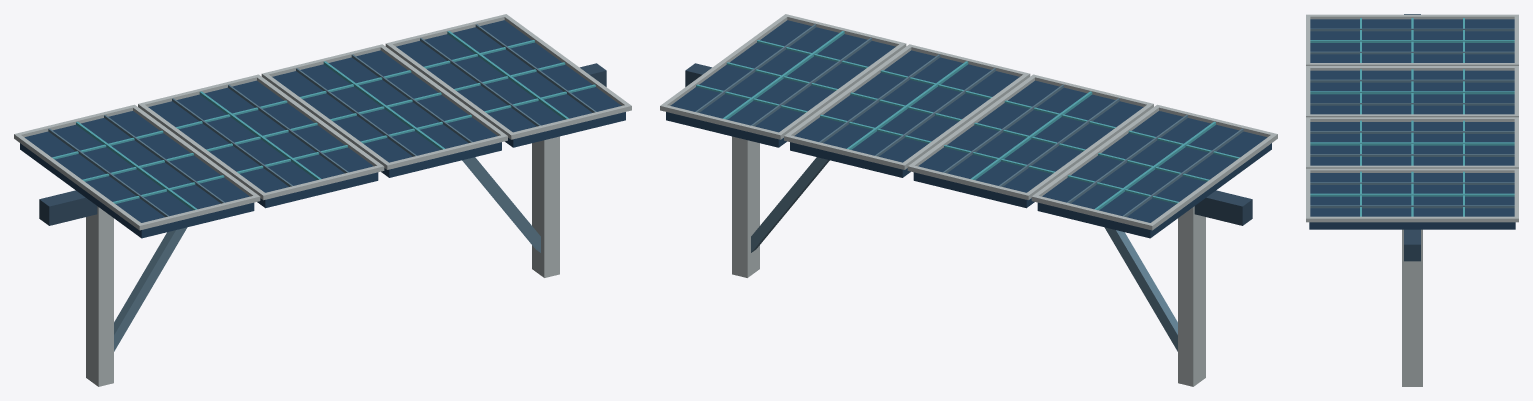
The model's file is SpaceStation_SolarTruss_Showcase.glb.
3 views of the same model, side by side, from view 1: azimuth 30°, elevation 25°; view 2: azimuth 150°, elevation 25°; view 3: azimuth 270°, elevation 25° (orthographic). The views are drawn at different scales.
Visible parts, largest first — view 1: SpaceStation_SolarTruss_Showcase; view 2: SpaceStation_SolarTruss_Showcase; view 3: SpaceStation_SolarTruss_Showcase.
Part boxes in pixels (x1,y1,x2,y2): SpaceStation_SolarTruss_Showcase: (14, 14, 631, 386); SpaceStation_SolarTruss_Showcase: (660, 14, 1277, 386); SpaceStation_SolarTruss_Showcase: (1306, 14, 1518, 386).
Size of the model in its own units: 9 by 3.18 by 3.51.
